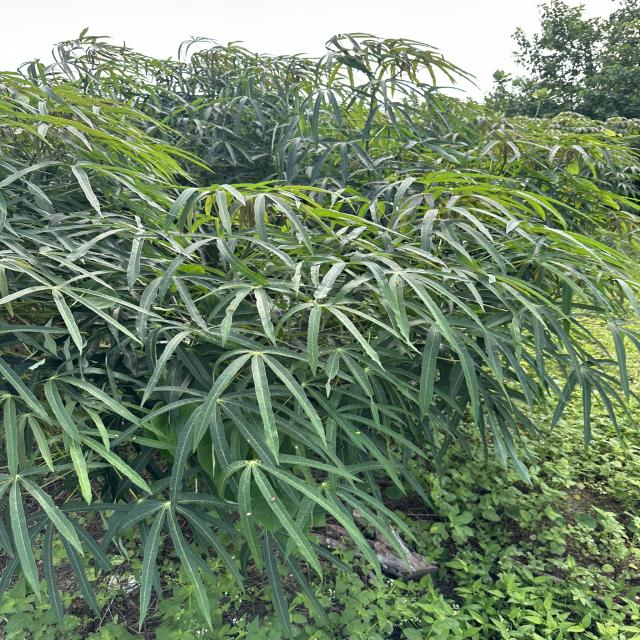Maleza: (454, 496, 640, 640)
Mosca: (236, 500, 257, 523), (239, 432, 263, 446), (387, 273, 405, 289), (348, 426, 366, 440), (264, 493, 285, 505), (227, 548, 243, 562), (292, 437, 303, 453)
